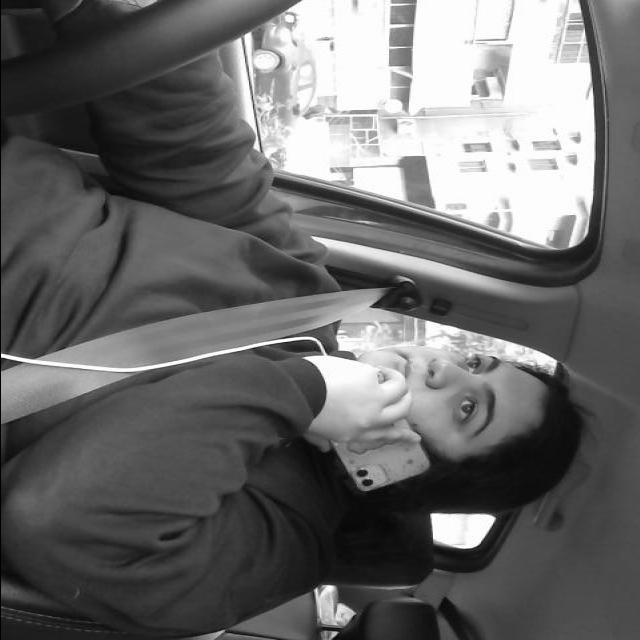mobile use: (306, 377, 436, 497)
